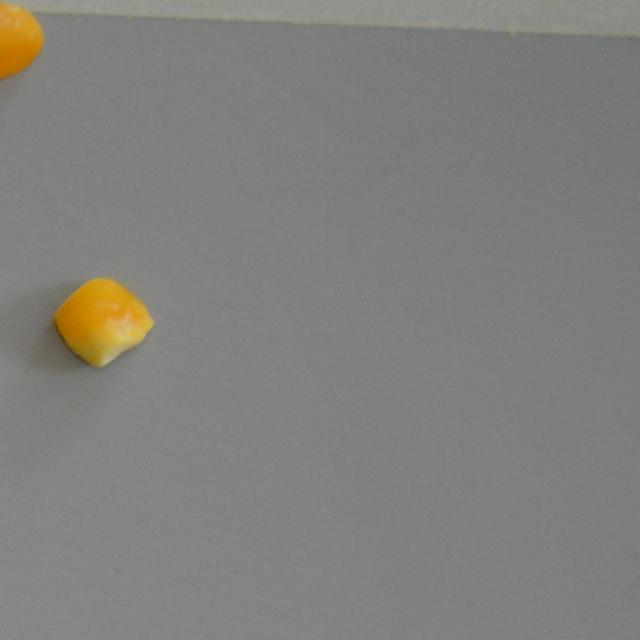dañado: (0, 2, 49, 92)
pelicula: (49, 272, 156, 373)
